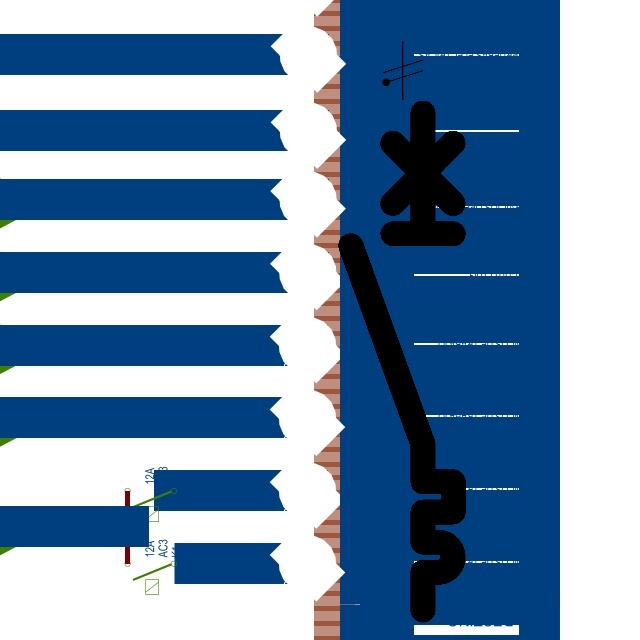interruptor_termomagnetico: (338, 100, 466, 623)
